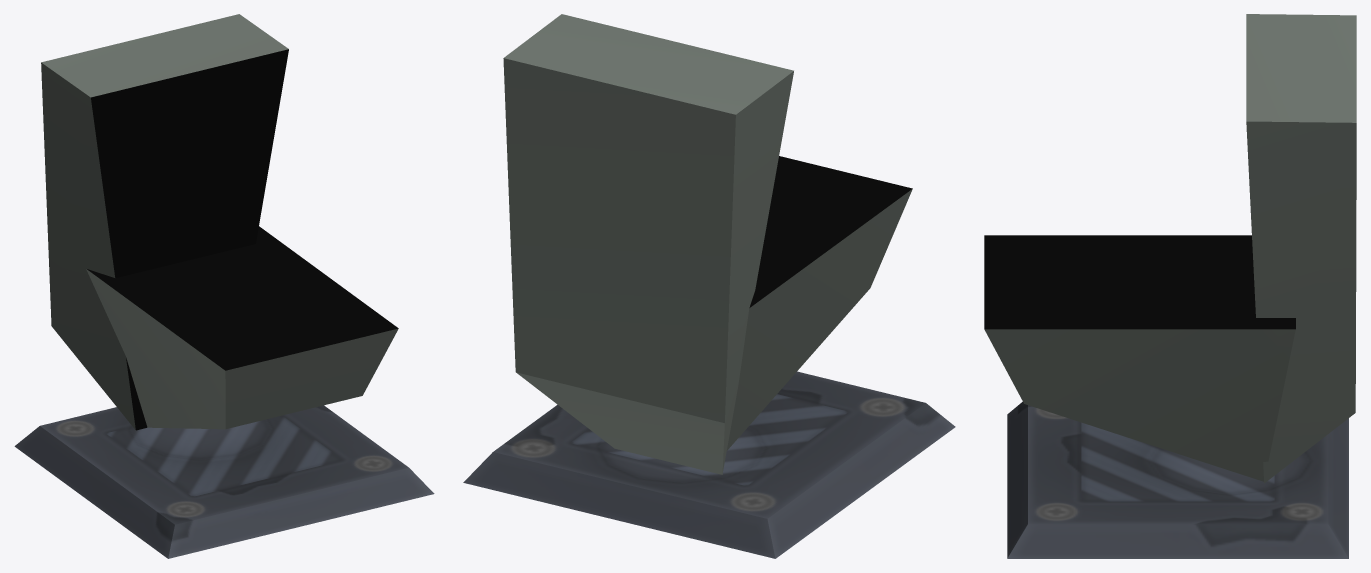
The model's file is obj_interactive_toilet_lod1.fbx.
3 renders of one model, left to right at view 1: azimuth 30°, elevation 25°; view 2: azimuth 150°, elevation 25°; view 3: azimuth 270°, elevation 25°, orthographic. The views are drawn at different scales.
Parts seen in each view (by area): view 1: obj_interactive_toilet_lod1; view 2: obj_interactive_toilet_lod1; view 3: obj_interactive_toilet_lod1.
Part boxes in pixels (x1,y1,x2,y2): obj_interactive_toilet_lod1: [14, 14, 434, 558]; obj_interactive_toilet_lod1: [463, 14, 955, 558]; obj_interactive_toilet_lod1: [984, 14, 1356, 558].
Size of the model in its own units: 2.65 by 3.56 by 2.88.
1 material, 1 textured.
